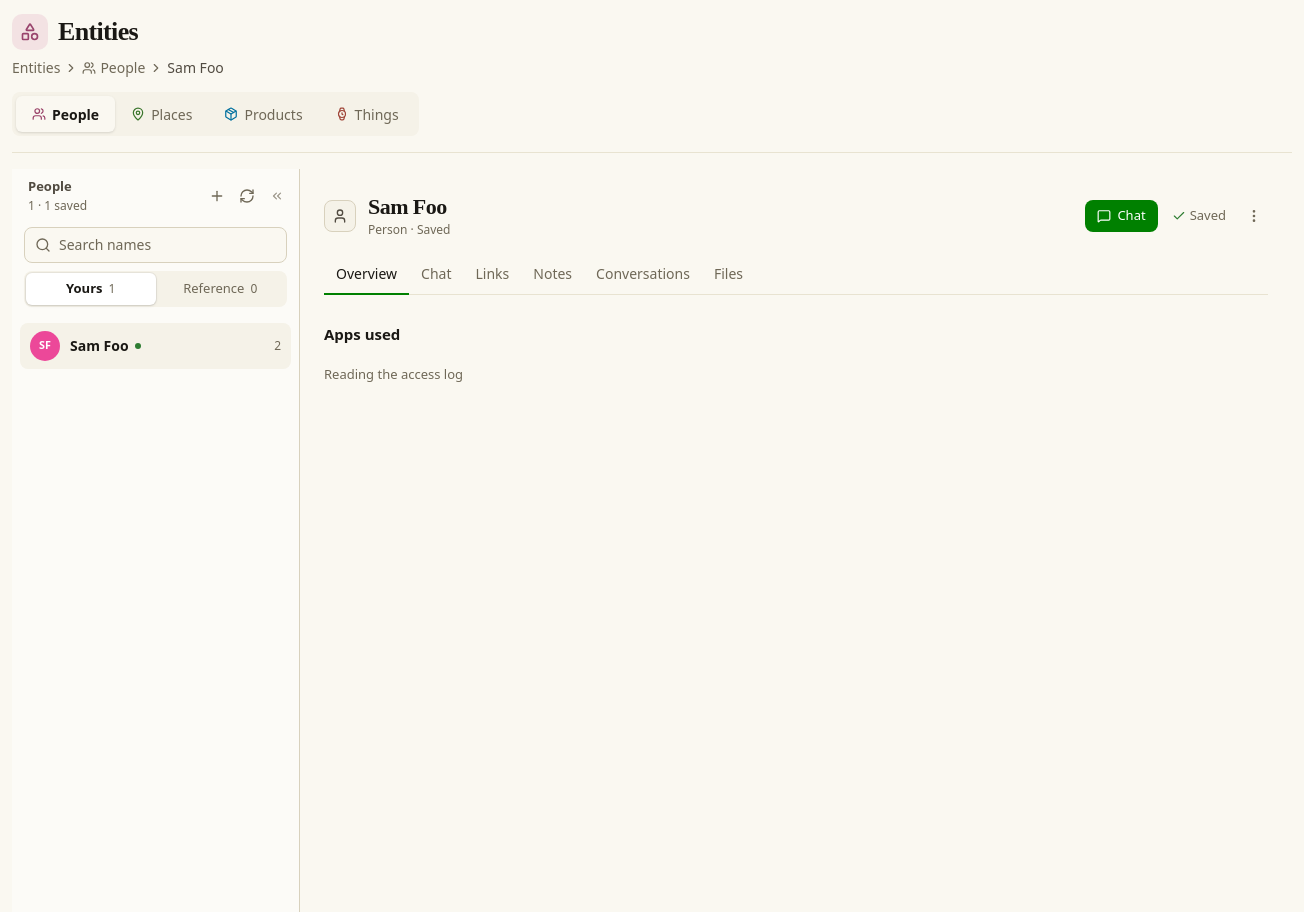
the Entities page › has a tab per kind, each with its icon, and breadcrumbs down to the object
Expected: the navigation bar with test id "ia-breadcrumbs" reads "Entities People Sam Foo", [12,57,224,78]
A wide screen opens on the first of the kind, and the crumbs name it.
Click the tab "Products": {"x": 264, "y": 114} [208,96,319,132]
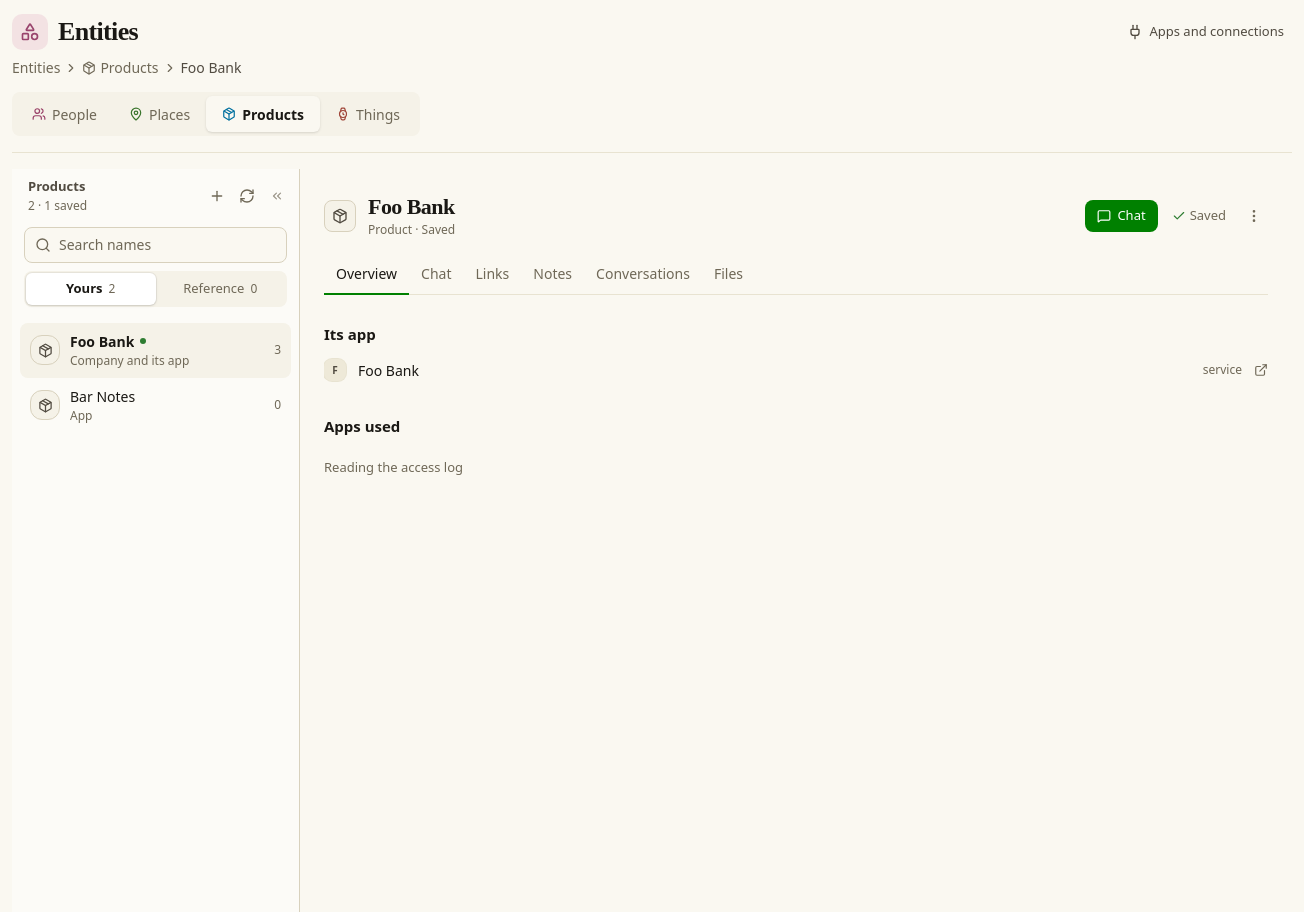
Now the text with test id "entity-row-app" reads "Company and its app", box [70,352,189,368]
Now the text with test id "entity-row-app" reads "App", box [70,406,92,424]
Click the button with test id "entity-row" showing "Foo Bank Company and its app 3": {"x": 156, "y": 350} [20,322,291,378]
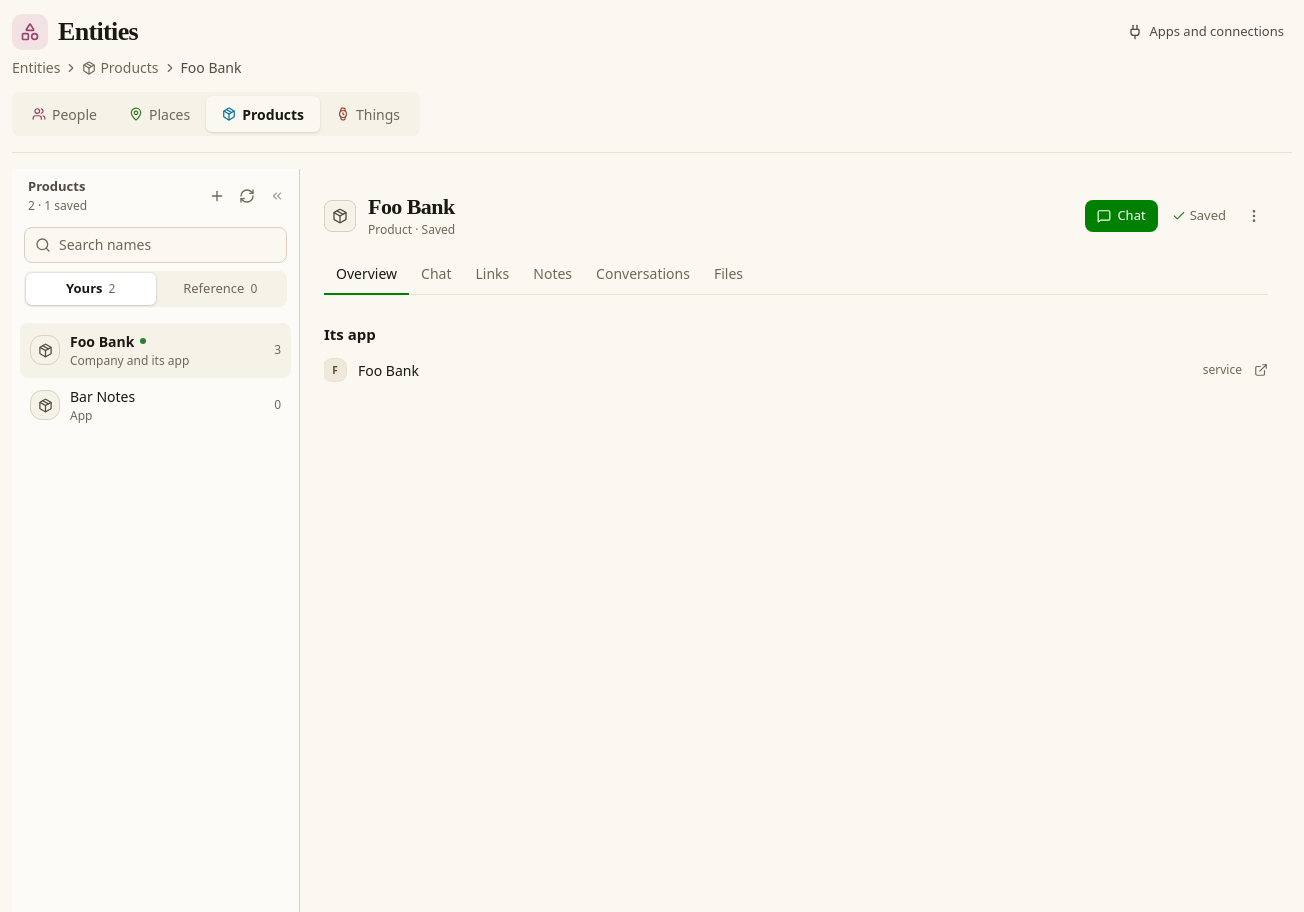
Now the text with test id "ia-crumb-object" reads "Foo Bank", box [181,58,242,77]
Now the navigation bar with test id "ia-breadcrumbs" reads "Entities Products Foo Bank", box [12,57,242,78]
Now the element with test id "product-apps" is shown, box [324,322,1268,387]
Click the button with test id "entity-row" showing "Bar Notes App 0": {"x": 103, "y": 396} [20,378,291,432]
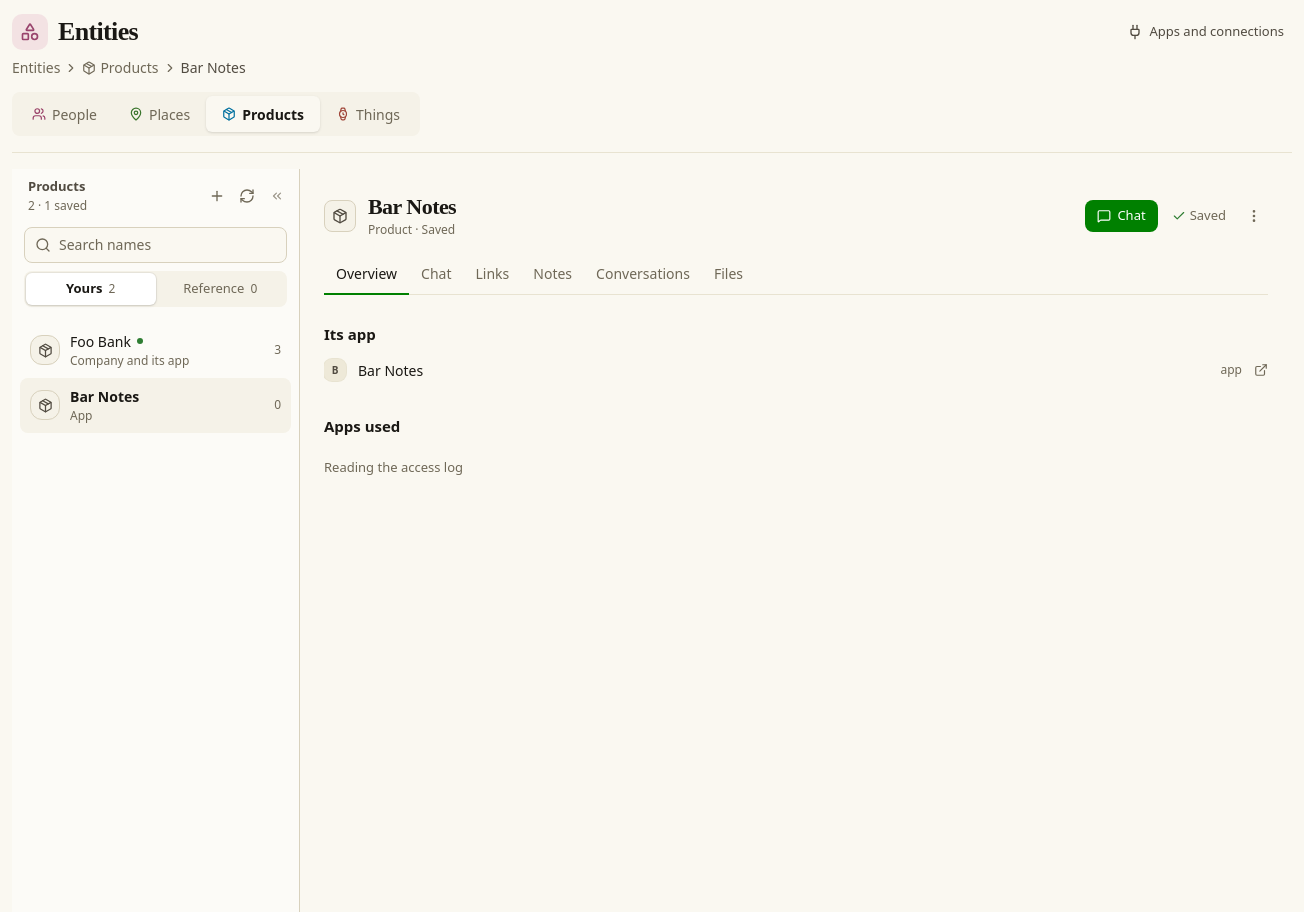
Now the text with test id "ia-crumb-object" reads "Bar Notes", box [181,58,246,77]
The kind crumb goes back to the list (on a wide screen, its first).
Click the button "Products": {"x": 120, "y": 68} [82,57,159,78]
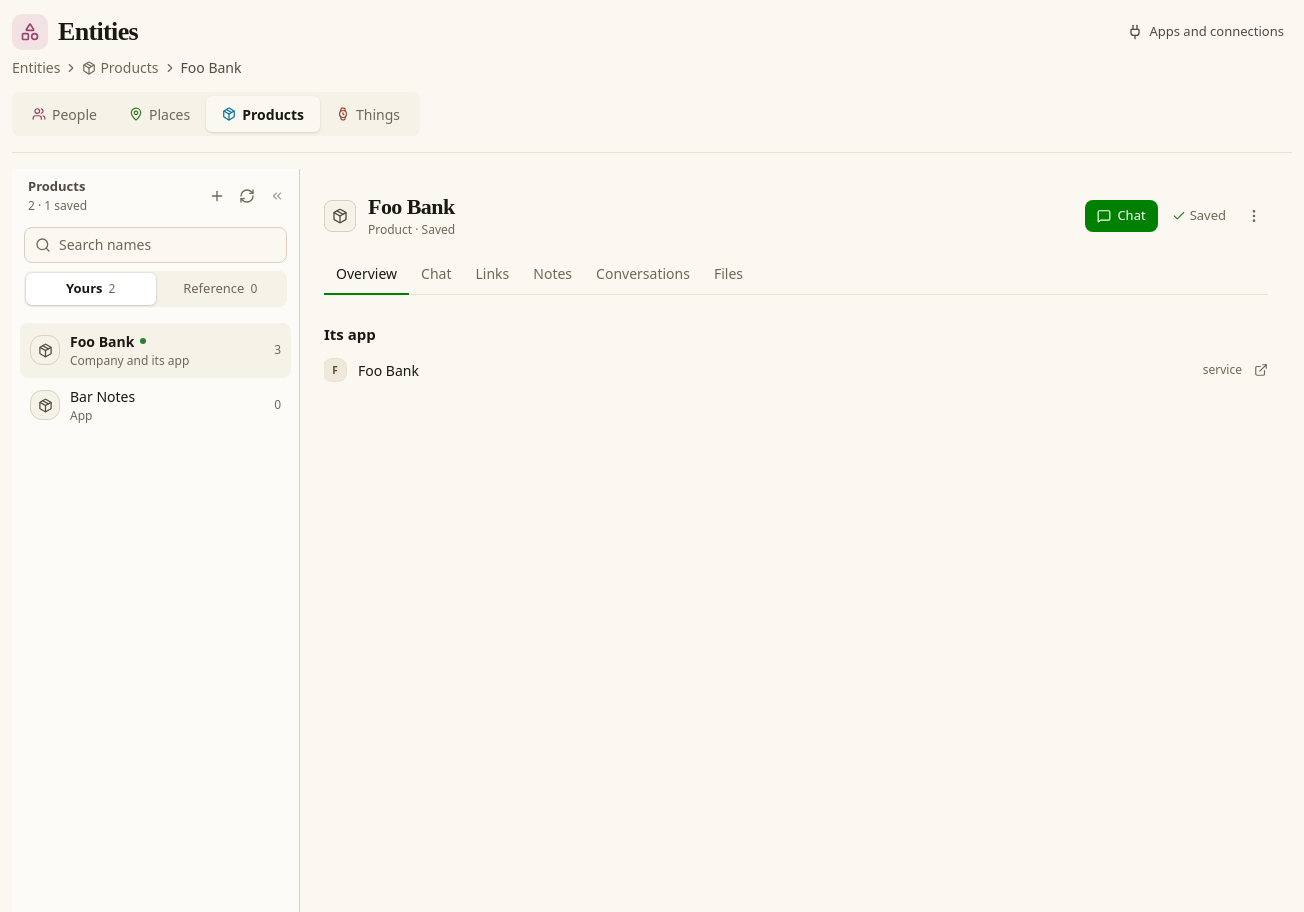
Now the text with test id "ia-crumb-object" reads "Foo Bank", box [181,58,242,77]
